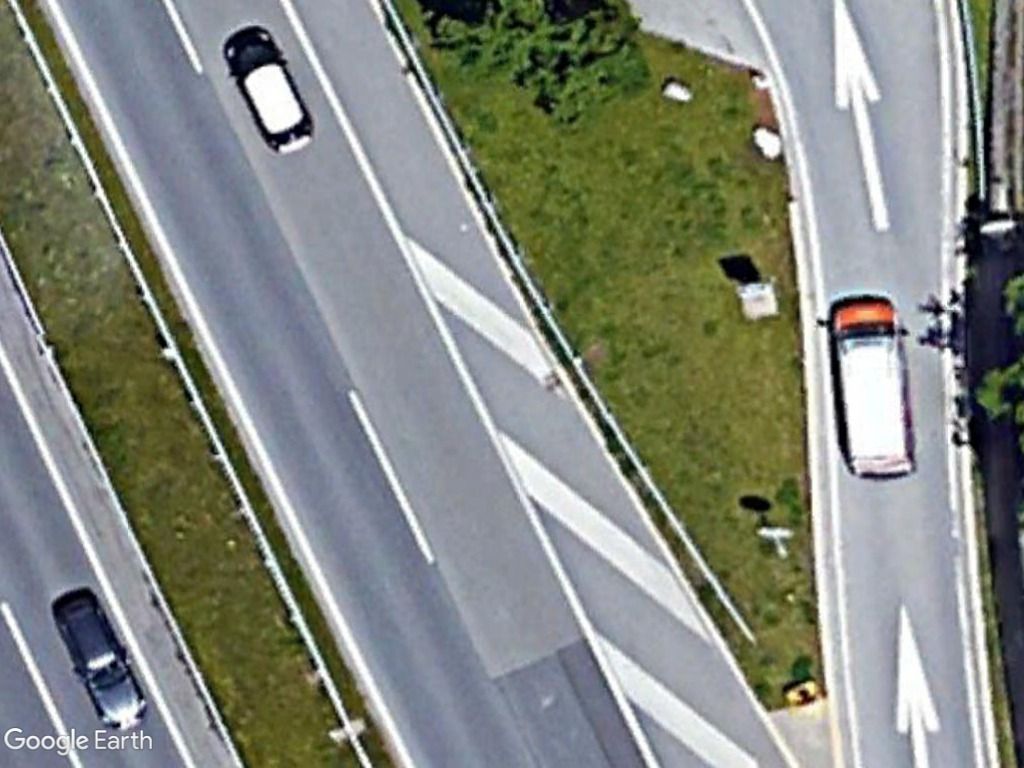car: (52, 584, 150, 736), (223, 17, 318, 158)
truck: (823, 296, 918, 486)
